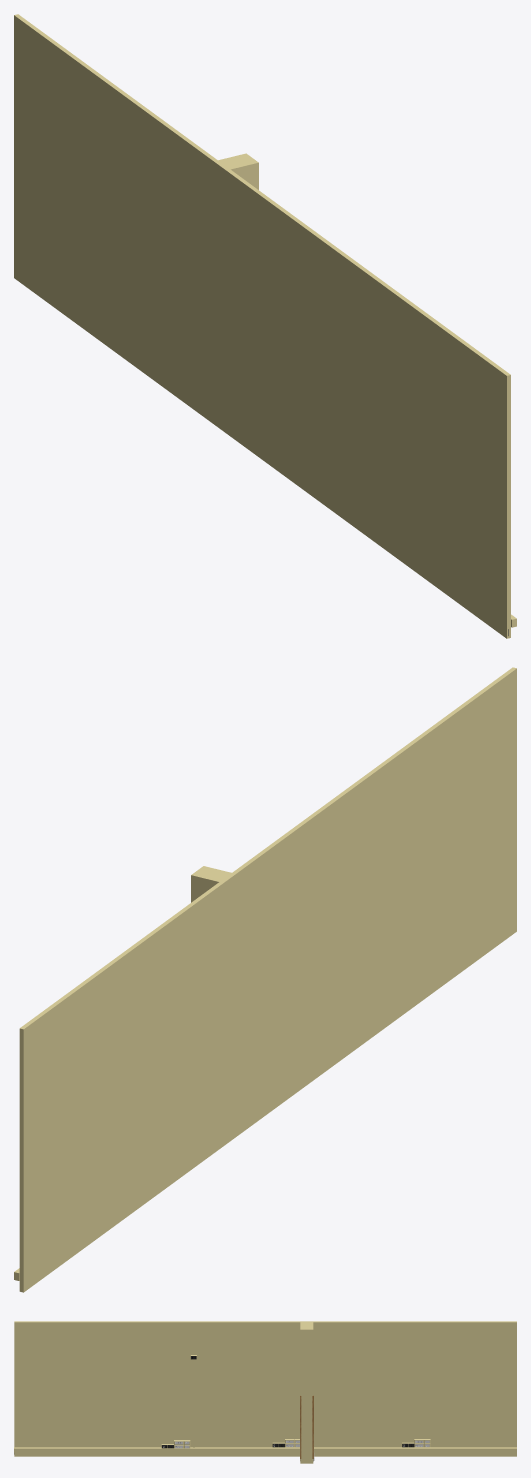
Rendered from paretelatoscrivaniestruttura.gltf.
The picture shows the model from 3 angles, top to bottom: view 1: azimuth 30°, elevation 25°; view 2: azimuth 150°, elevation 25°; view 3: azimuth 270°, elevation 25°; orthographic projection. The views are drawn at different scales.
Parts seen in each view (by area): view 1: Parete Lato Scrivanie, Parete Lato Scrivanie Rientro; view 2: Parete Lato Scrivanie, Parete Lato Scrivanie Rientro; view 3: Parete Lato Scrivanie, Parete Lato Scrivanie Corpicavi Basso, Parete Lato Scrivanie Rientro, Parete Lato Scrivanie Gruppo Prese 3, Parete Lato Scrivanie Gruppo Prese 1, Parete Lato Scrivanie Gruppo Prese 2.
Part boxes in pixels (x1=…): Parete Lato Scrivanie: x1=14, y1=14, x2=510, y2=638; Parete Lato Scrivanie Rientro: x1=218, y1=153, x2=258, y2=189; Parete Lato Scrivanie: x1=19, y1=667, x2=516, y2=1292; Parete Lato Scrivanie Rientro: x1=191, y1=866, x2=231, y2=902; Parete Lato Scrivanie: x1=14, y1=1321, x2=516, y2=1456; Parete Lato Scrivanie Corpicavi Basso: x1=14, y1=1447, x2=516, y2=1452; Parete Lato Scrivanie Rientro: x1=300, y1=1322, x2=313, y2=1463; Parete Lato Scrivanie Gruppo Prese 3: x1=402, y1=1439, x2=430, y2=1447; Parete Lato Scrivanie Gruppo Prese 1: x1=161, y1=1440, x2=190, y2=1448; Parete Lato Scrivanie Gruppo Prese 2: x1=272, y1=1439, x2=299, y2=1447.
Bounding box in the file's own units: 0.3998 × 3 × 10.2.
Materials: 7 (2 with a texture image).
